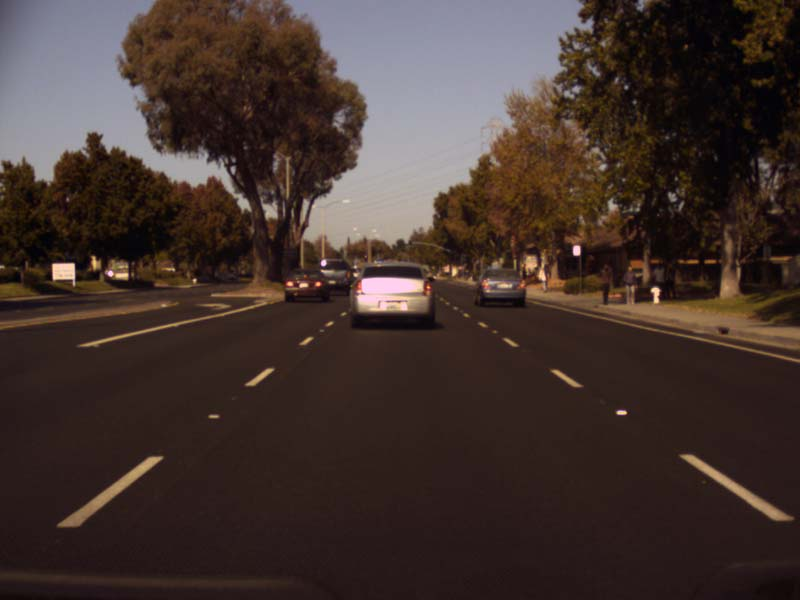Green: (407, 239, 412, 248)
Yellow: (362, 251, 367, 261)
